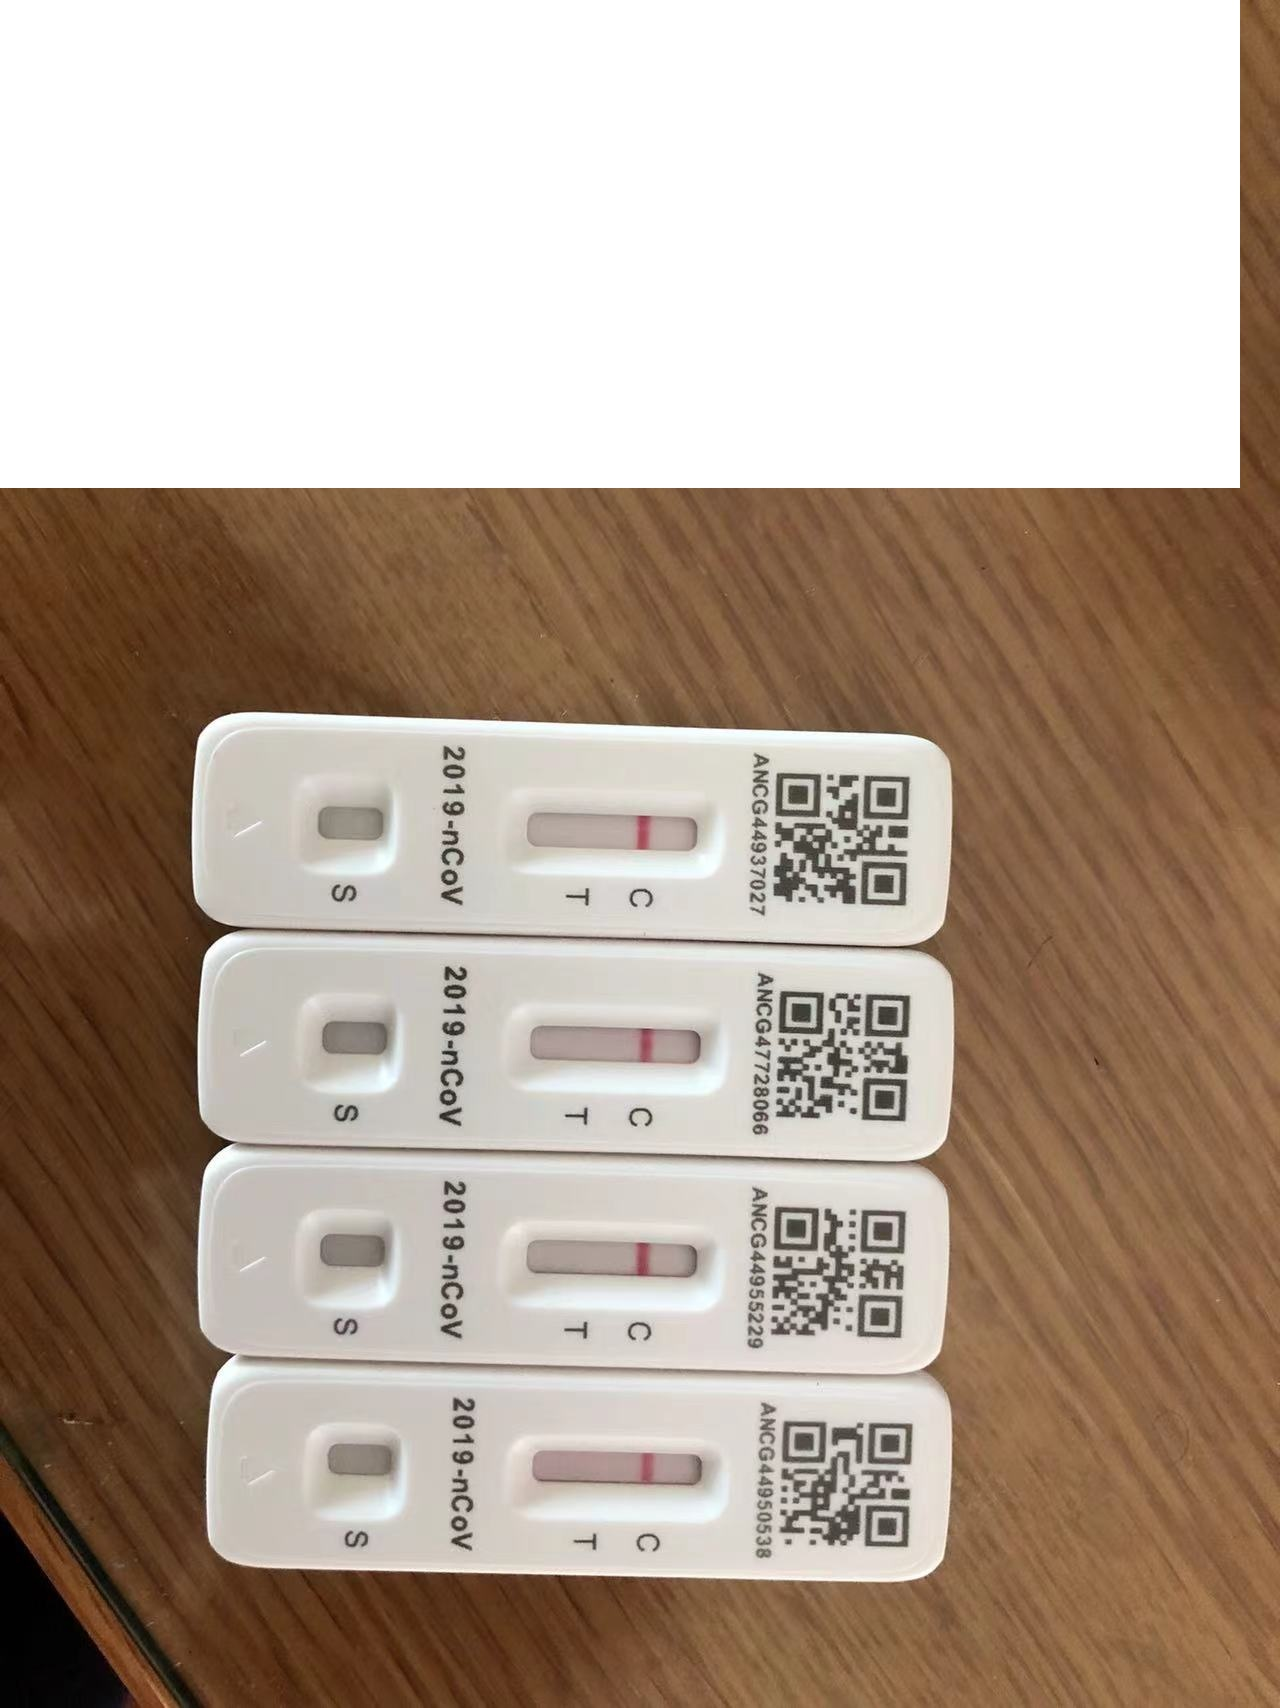negative: (497, 1222, 725, 1311), (502, 785, 723, 874), (500, 1001, 727, 1087), (508, 1434, 726, 1517)
